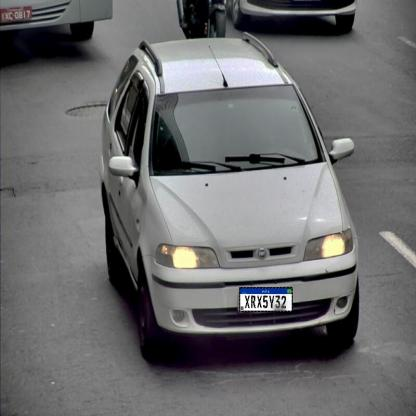PlacaM: (239, 287, 293, 312)
